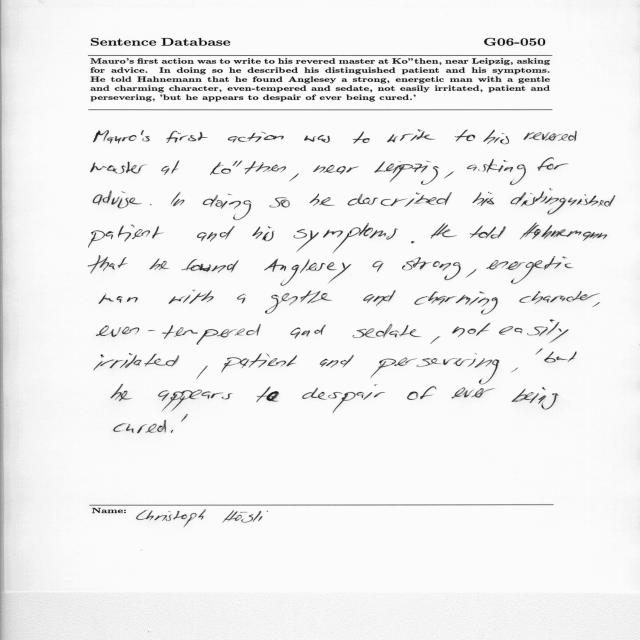word: (371, 353, 500, 384), (96, 324, 261, 345), (294, 223, 398, 253), (511, 189, 616, 215), (486, 256, 573, 284), (303, 384, 386, 413), (264, 259, 351, 286), (414, 292, 498, 315), (89, 224, 164, 248), (499, 320, 569, 343), (265, 290, 332, 314), (347, 192, 452, 207), (520, 223, 607, 241), (374, 161, 439, 185), (158, 390, 232, 411), (467, 159, 526, 185), (94, 353, 179, 371), (222, 353, 297, 372), (402, 257, 461, 280), (203, 194, 251, 220), (210, 161, 286, 175), (519, 291, 600, 304), (512, 388, 559, 410), (353, 324, 422, 338), (93, 191, 142, 209), (181, 259, 239, 273), (93, 130, 150, 144), (90, 161, 147, 174), (89, 256, 128, 274), (114, 420, 166, 433), (169, 290, 214, 304), (228, 132, 284, 143), (197, 226, 235, 242), (387, 130, 436, 142), (452, 323, 491, 337), (290, 324, 326, 339), (524, 131, 577, 141), (363, 290, 396, 306), (166, 131, 208, 143), (452, 388, 495, 399), (470, 226, 506, 239), (320, 355, 354, 368), (538, 157, 569, 171), (99, 293, 138, 304), (407, 386, 437, 400), (431, 223, 457, 239), (313, 165, 359, 174), (544, 351, 577, 363), (256, 387, 279, 403), (483, 130, 509, 144), (111, 384, 132, 401), (253, 226, 275, 241), (310, 194, 335, 207), (472, 192, 494, 206), (162, 160, 180, 175), (149, 258, 169, 270), (269, 197, 290, 208), (353, 131, 370, 144), (455, 130, 475, 141), (304, 135, 330, 143), (171, 192, 184, 206), (196, 366, 208, 379), (373, 261, 384, 272), (466, 269, 476, 278), (289, 174, 299, 182), (237, 294, 245, 304), (431, 336, 441, 344), (444, 172, 454, 179), (181, 414, 188, 422), (536, 349, 543, 355), (592, 302, 600, 307), (511, 368, 518, 373), (171, 430, 174, 433), (411, 241, 415, 243), (150, 204, 152, 205)
